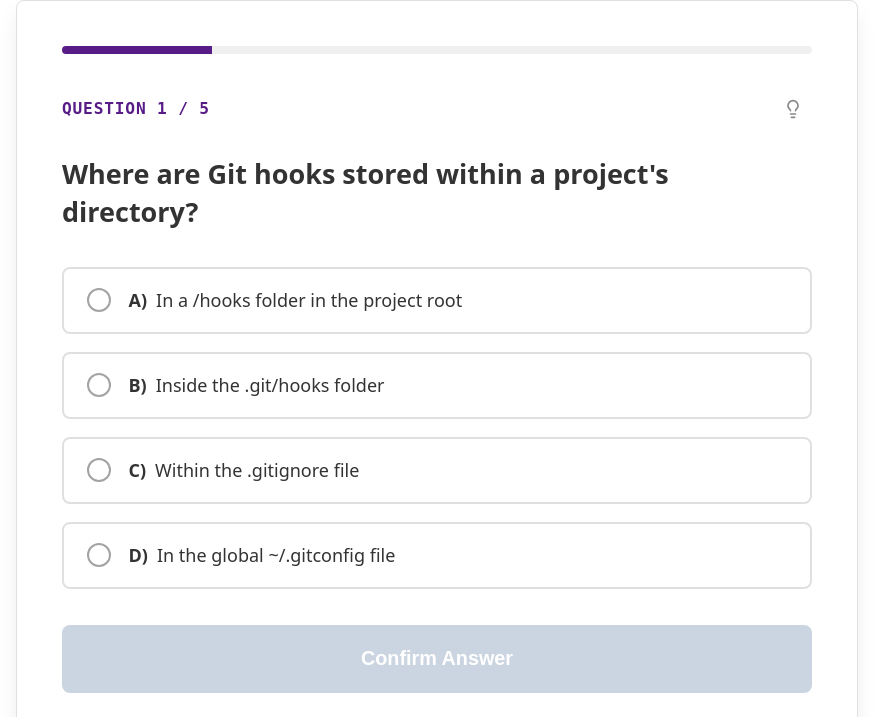
Test: QuizPage › toggles the hint visibility when the lightbulb icon is clicked
expect the text "Check the hidden directory" is not shown: met
// Show hint
What coordinates should you click on to do the following:
click the button titled "Show Hint"
I would click on:
 (793, 109)
Its box is [774,90,812,128].
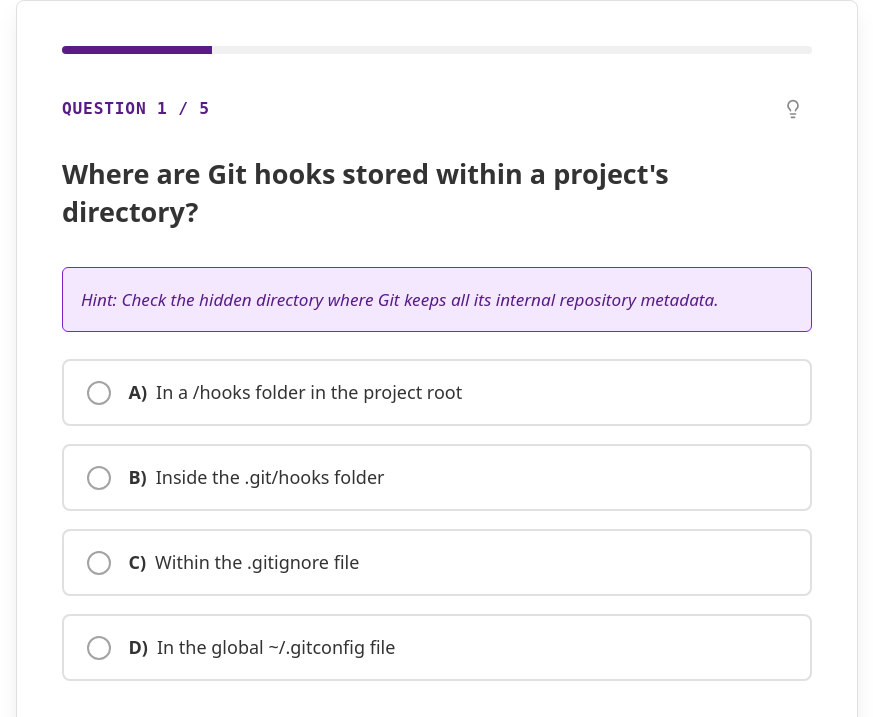
expect the text "Check the hidden directory" is shown: met, box [121,288,719,311]
// Hide hint
What coordinates should you click on to do the following:
click the button titled "Show Hint"
I would click on:
 (793, 109)
Its box is [774,90,812,128].
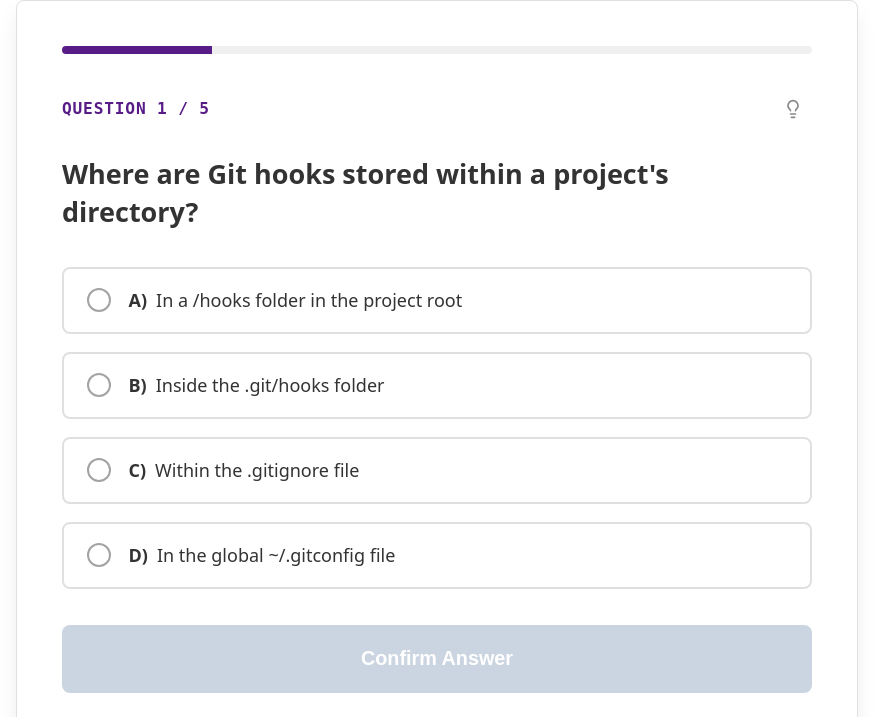
expect the text "Check the hidden directory" is gone: met
